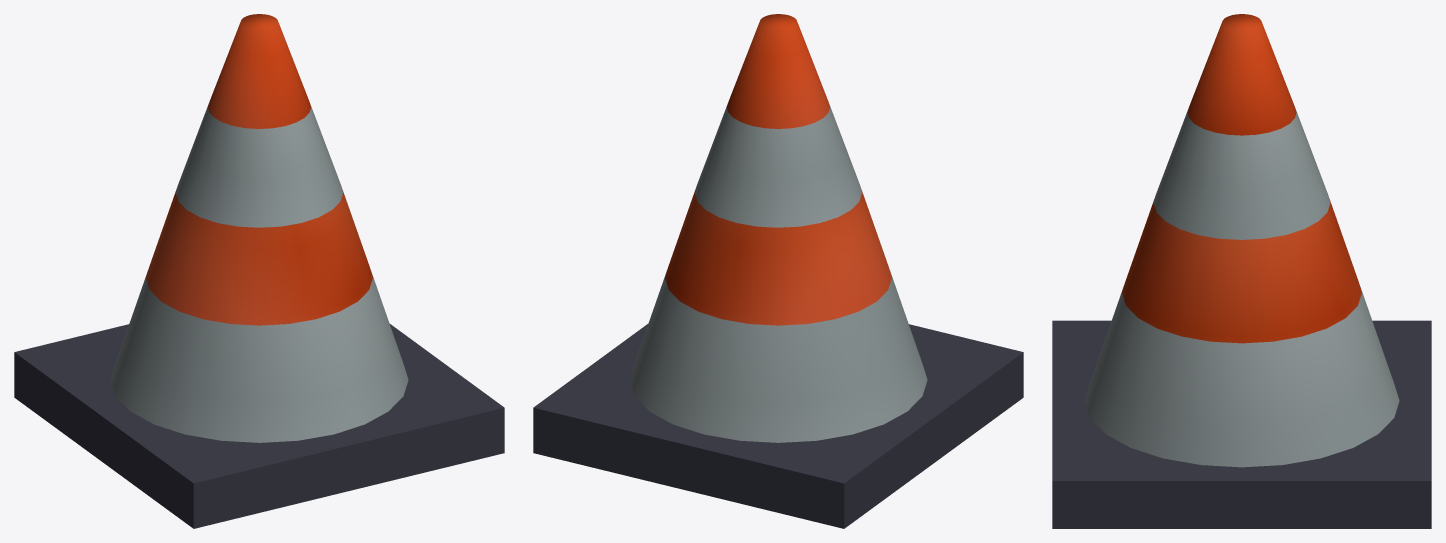
The model's file is TrafficCone.fbx.
The picture shows the model from 3 angles, left to right: view 1: azimuth 30°, elevation 25°; view 2: azimuth 150°, elevation 25°; view 3: azimuth 270°, elevation 25°; orthographic projection. The views are drawn at different scales.
Parts seen in each view (by area): view 1: Cube; view 2: Cube; view 3: Cube.
Boxes of the visible parts, x1,y1,x2,y2 form: Cube: [14, 14, 504, 528]; Cube: [533, 14, 1023, 528]; Cube: [1052, 14, 1431, 528].
Size of the model in its own units: 0.5726 by 0.71 by 0.5726.
1 material, 1 textured.
